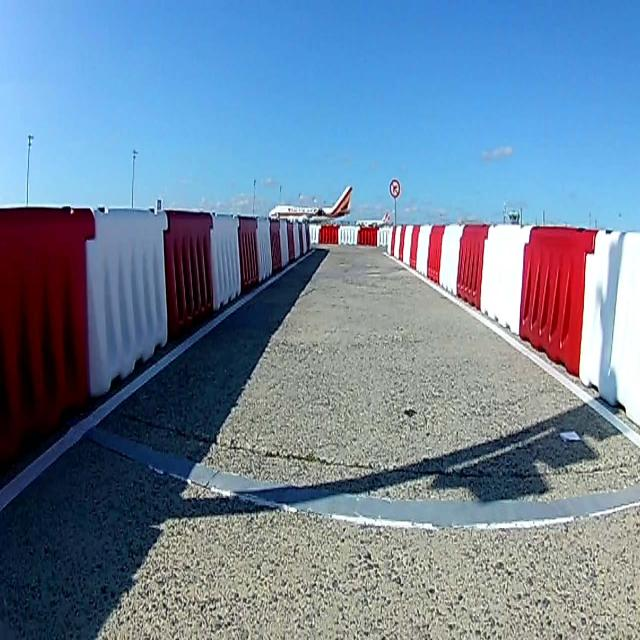sagadonulmez: (390, 180, 400, 198)
